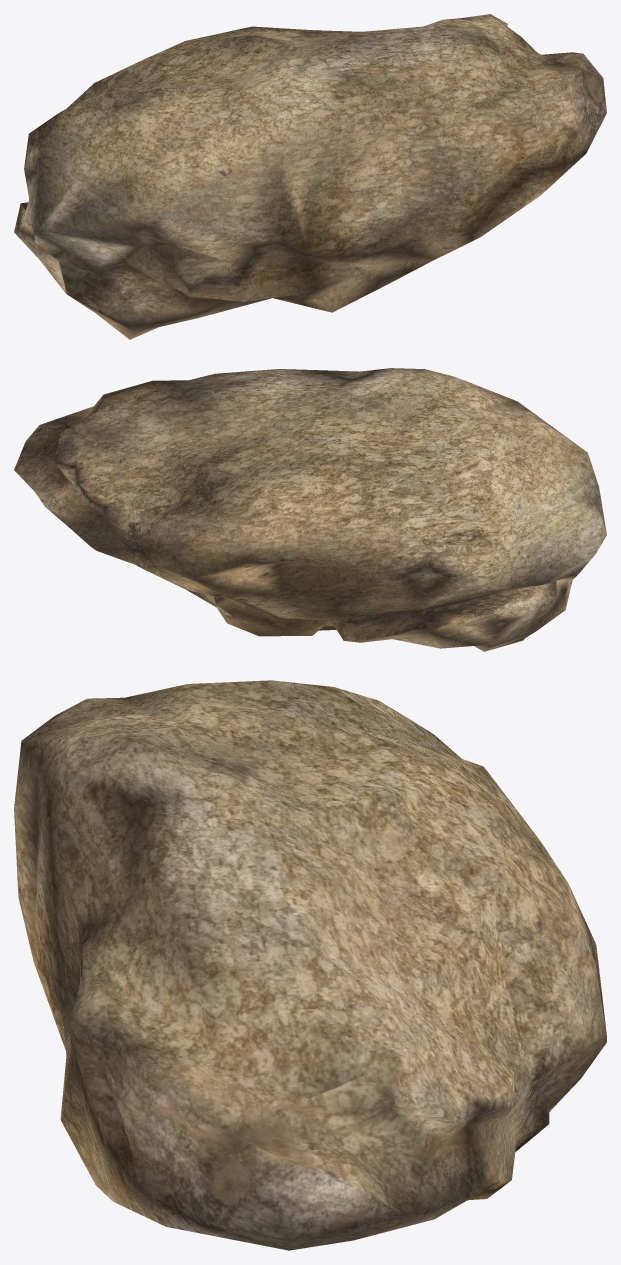
The model's file is desert_boulder_round_lod1.glb.
3 views of the same model, one above another, from view 1: azimuth 30°, elevation 25°; view 2: azimuth 150°, elevation 25°; view 3: azimuth 270°, elevation 25° (orthographic). The views are drawn at different scales.
Parts seen in each view (by area): view 1: namaqualand_boulder_05; view 2: namaqualand_boulder_05; view 3: namaqualand_boulder_05.
Part boxes in pixels (x1,y1,x2,y2): namaqualand_boulder_05: [14, 14, 606, 339]; namaqualand_boulder_05: [14, 368, 606, 651]; namaqualand_boulder_05: [14, 680, 606, 1250].
Bounding box in the file's own units: 1.36 × 0.5316 × 0.738.
1 material, 1 textured.
